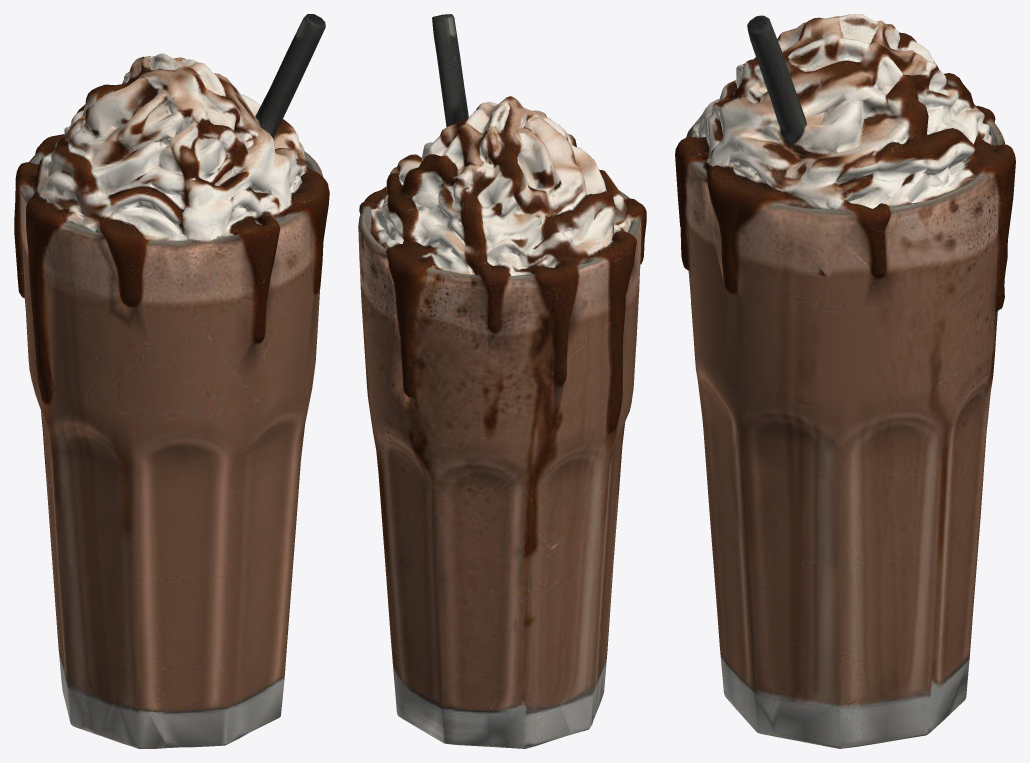
Rendered from nutella-shake-ar.glb.
3 renders of one model, left to right at view 1: azimuth 30°, elevation 25°; view 2: azimuth 150°, elevation 25°; view 3: azimuth 270°, elevation 25°, orthographic. The views are drawn at different scales.
Visible parts, largest first — view 1: mesh_node; view 2: mesh_node; view 3: mesh_node.
Part boxes in pixels (<box>): mesh_node: <box>14,14,329,748</box>; mesh_node: <box>358,14,646,748</box>; mesh_node: <box>675,14,1015,748</box>.
Size of the model in its own units: 0.0743 by 0.18 by 0.0758.
Materials: 1 (1 with a texture image).
